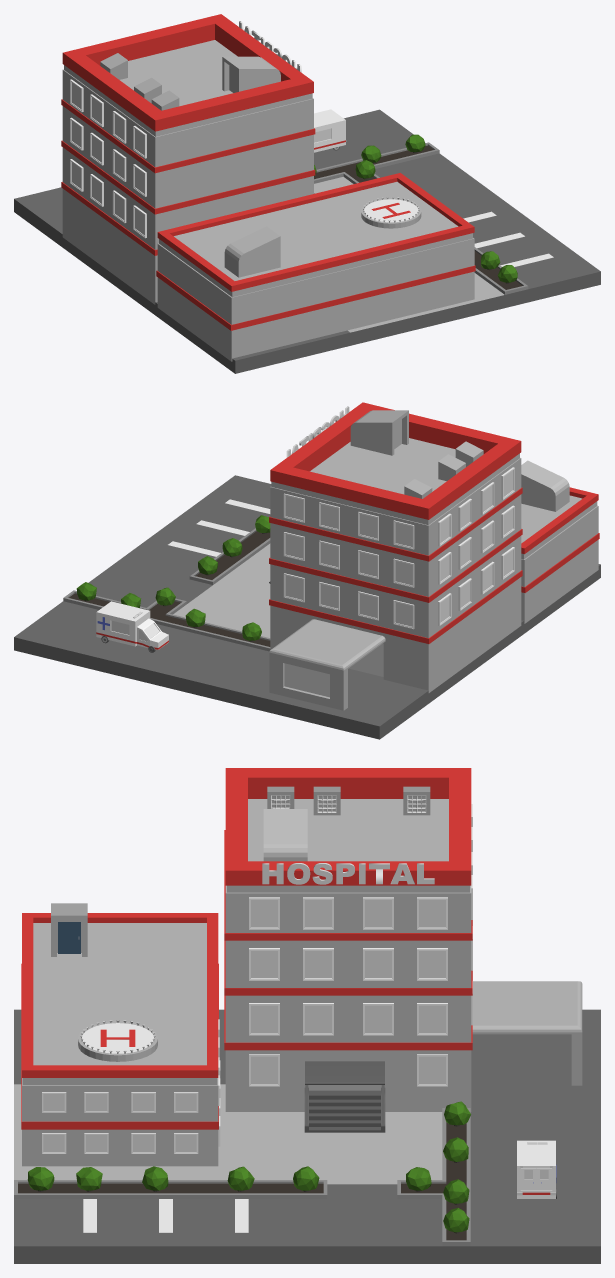
The model's file is hospital.fbx.
3 views of the same model, one above another, from view 1: azimuth 30°, elevation 25°; view 2: azimuth 150°, elevation 25°; view 3: azimuth 270°, elevation 25° (orthographic). The views are drawn at different scales.
Parts seen in each view (by area): view 1: bushes; view 2: bushes; view 3: bushes.
Boxes of the visible parts, left/top/right/bottom form: bushes: left=14, top=14, right=600, bottom=373; bushes: left=14, top=402, right=600, bottom=739; bushes: left=14, top=768, right=600, bottom=1263.
Bounding box in the file's own units: 1408 × 776 × 1467.
